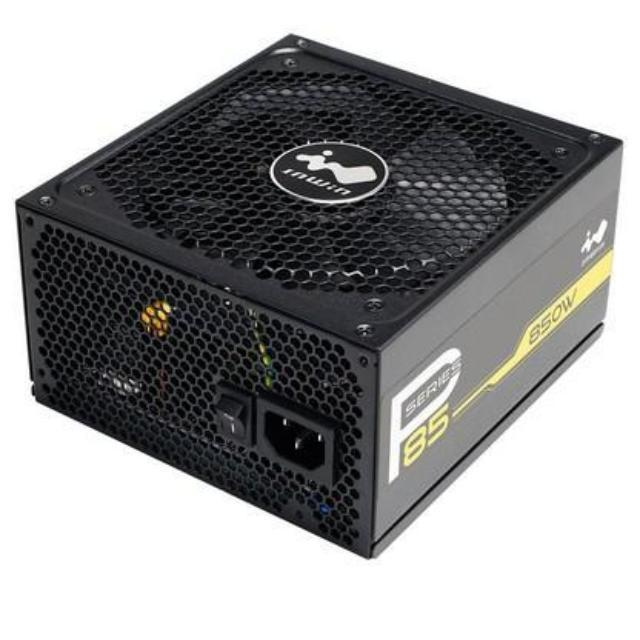PSU: (3, 19, 640, 568)
